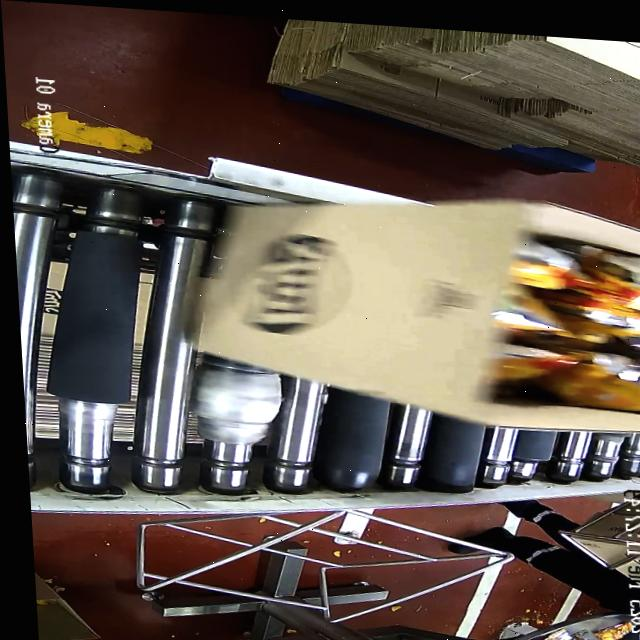FRENCH_CHEESE: (492, 235, 640, 414)
